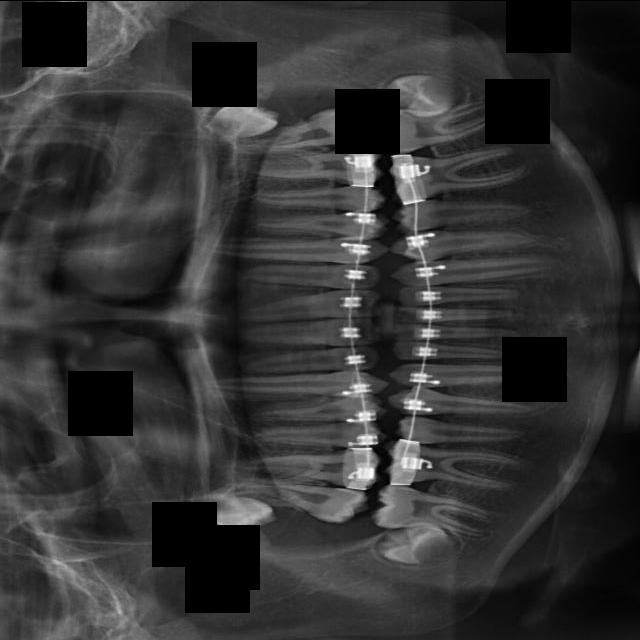3M ESPE Implant: (186, 484, 280, 545)
AGS Medikal Implant: (368, 97, 501, 156)
AMerOss Implant: (385, 140, 531, 204)
Amalgam filling: (223, 465, 373, 529)
Anthogyr Implant: (389, 187, 536, 234)
Bicon Implant: (389, 220, 534, 262)
BioHorizons Implant: (390, 253, 574, 287)
BioLife Implant: (394, 284, 524, 306)
Biomet 3i Implant: (391, 304, 517, 322)
Blue Sky Bio Implant: (392, 323, 519, 341)
Camlog Implant: (392, 341, 514, 360)
Caries: (244, 263, 382, 289)
Composite filling: (388, 361, 558, 389)
Cowellmedi Implant: (386, 388, 546, 417)
Crown: (391, 412, 530, 456)
DENTSPLY Implant: (241, 447, 383, 489)
Dentatus Implant: (379, 438, 528, 489)
Dentis Implant: (368, 482, 501, 537)
Dentium Implant: (375, 527, 460, 565)
Euroteknika Implant: (250, 419, 389, 447)
Filling: (249, 395, 389, 422)
Frontier Implant: (202, 370, 392, 399)
Hiossen Implant: (191, 229, 391, 265)
Implant: (232, 317, 382, 347)
Implant Direct: (242, 346, 381, 373)
Keystone Dental Implant: (237, 288, 384, 322)
MIS Implant: (254, 200, 391, 239)
Mandible: (248, 185, 387, 211)
Maxilla: (237, 142, 386, 191)
Megagen Implant: (228, 104, 374, 153)
Neodent Implant: (195, 85, 285, 155)
Neoss Implant: (382, 74, 463, 107)
